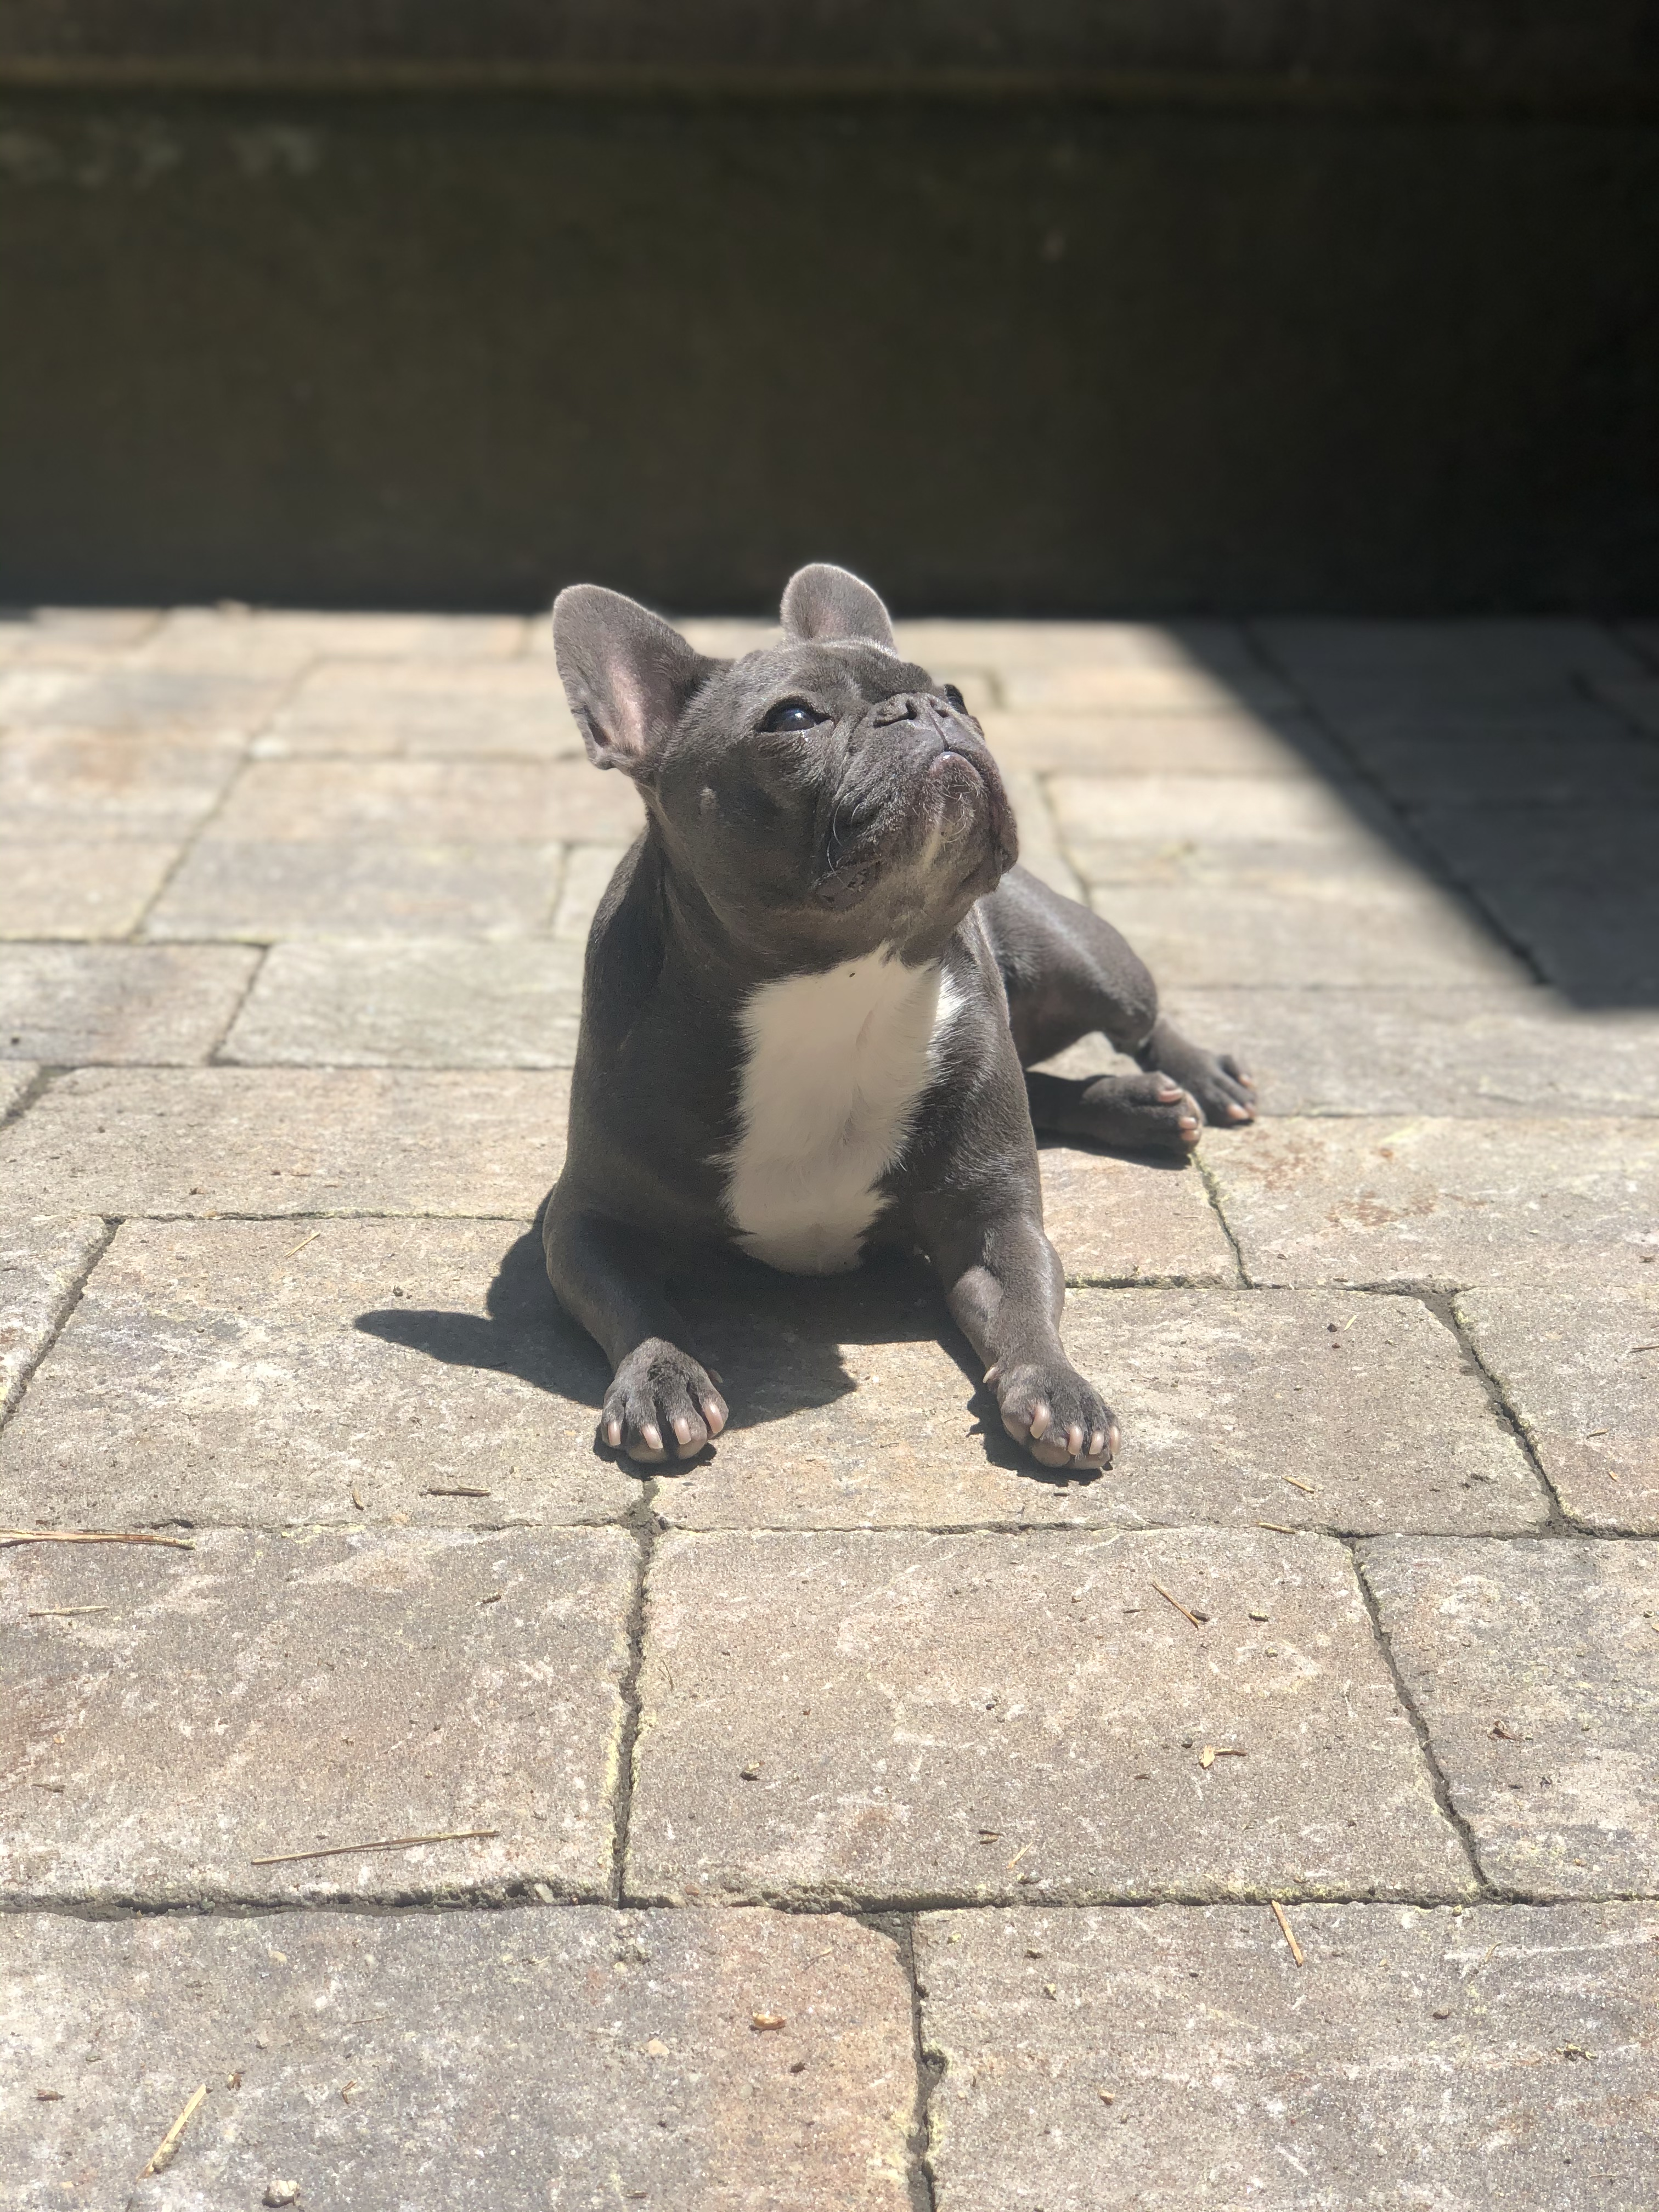lucy: (532, 554, 1269, 1487)
